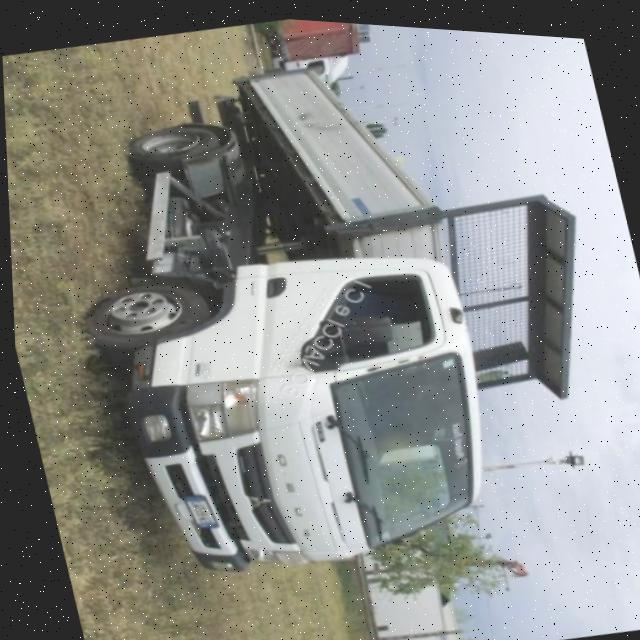truck: (36, 11, 626, 610)
